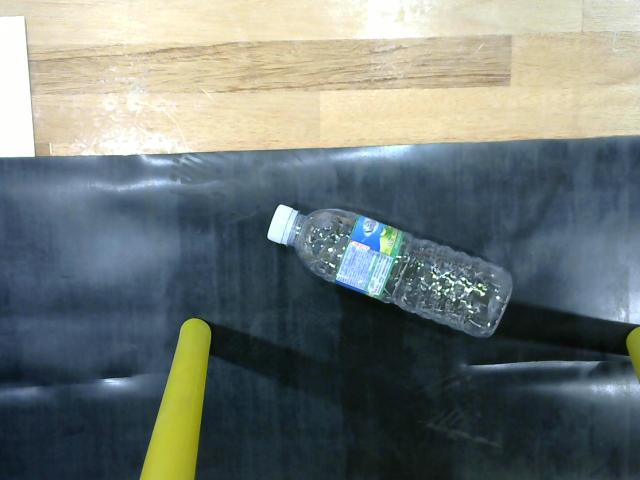bottle: (266, 197, 522, 345)
